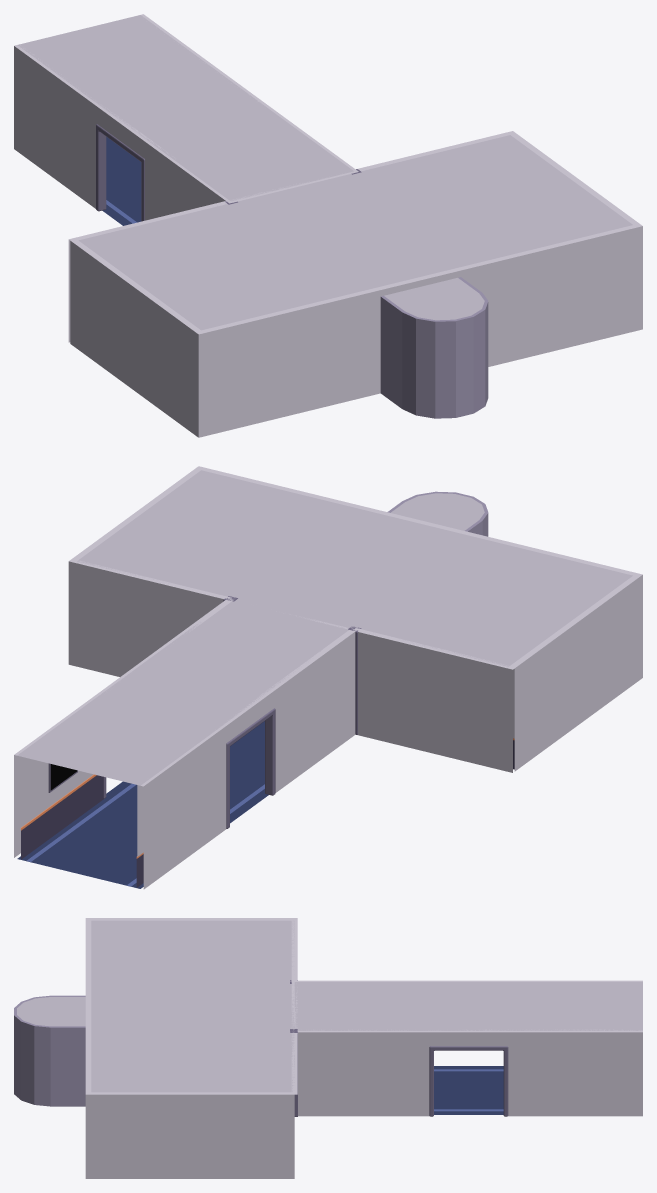
The model's file is holodeck-deck.glb.
The picture shows the model from 3 angles, top to bottom: view 1: azimuth 30°, elevation 25°; view 2: azimuth 150°, elevation 25°; view 3: azimuth 270°, elevation 25°; orthographic projection. The views are drawn at different scales.
Visible parts, largest first — view 1: head ceiling, head wall 0, row_even ceiling, head wall 1, turbolift wall, row_even hallway wall port 0, row_even hallway wall port 1, turbolift ceiling, row_even hallway, row_even holodeck door port frame, row_even hallway wall port lintel, head aft wall port (+2 smaller); view 2: head ceiling, row_even ceiling, head aft wall port, head wall 0, head aft wall starboard, row_even hallway wall port 0, row_even hallway wall port 1, row_even hallway, row_even hallway wall starboard 1, turbolift ceiling, head wall 1, row_even holodeck door port frame (+2 smaller); view 3: head ceiling, head wall 1, row_even ceiling, row_even hallway wall starboard 1, row_even hallway wall starboard 0, turbolift wall, row_even hallway, turbolift ceiling, row_even hallway wall starboard lintel, head wall 0, row_even holodeck door starboard frame, head aft wall port (+1 smaller).
Boxes of the visible parts, box(x1,y1,x2,y2) form: head ceiling: box(78, 135, 632, 330); head wall 0: box(70, 240, 387, 437); row_even ceiling: box(17, 15, 353, 201); head wall 1: box(451, 133, 642, 366); turbolift wall: box(380, 277, 488, 418); row_even hallway wall port 0: box(14, 45, 102, 208); row_even hallway wall port 1: box(143, 139, 228, 220); turbolift ceiling: box(384, 278, 484, 320); row_even hallway: box(102, 137, 141, 225); row_even holodeck door port frame: box(96, 124, 144, 221); row_even hallway wall port lintel: box(98, 106, 149, 157); head aft wall port: box(68, 201, 226, 342); head ceiling: box(77, 470, 632, 666); row_even ceiling: box(17, 600, 348, 785); head aft wall port: box(353, 628, 514, 772); head wall 0: box(451, 528, 642, 771); head aft wall starboard: box(68, 559, 231, 676); row_even hallway wall port 0: box(136, 724, 227, 889); row_even hallway wall port 1: box(267, 629, 356, 792); row_even hallway: box(17, 721, 268, 888); row_even hallway wall starboard 1: box(14, 693, 104, 859); turbolift ceiling: box(391, 493, 484, 530); head wall 1: box(72, 466, 386, 561); row_even holodeck door port frame: box(226, 708, 275, 828); head ceiling: box(91, 920, 294, 1092); head wall 1: box(85, 1019, 294, 1178); row_even ceiling: box(294, 982, 642, 1030); row_even hallway wall starboard 1: box(506, 1029, 642, 1116); row_even hallway wall starboard 0: box(297, 1029, 431, 1116); turbolift wall: box(14, 995, 85, 1106); row_even hallway: box(434, 1066, 503, 1114); turbolift ceiling: box(17, 997, 85, 1026); row_even hallway wall starboard lintel: box(431, 1029, 505, 1046); head wall 0: box(85, 918, 294, 992); row_even holodeck door starboard frame: box(429, 1046, 508, 1116); head aft wall port: box(291, 918, 297, 981).
Size of the model in its own units: 14.4 by 3.2 by 21.67.
